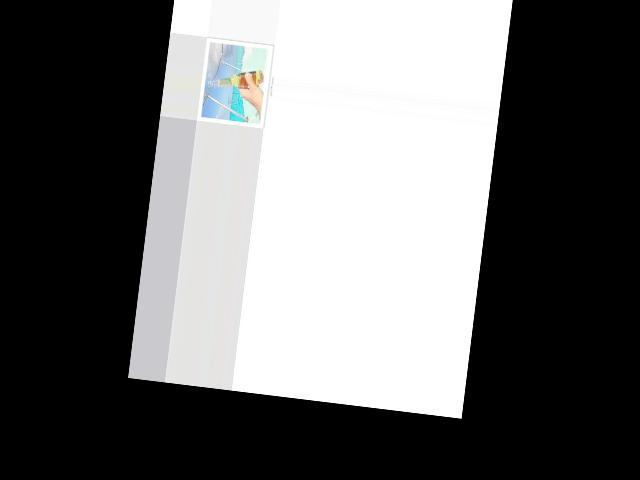beer: (207, 63, 264, 95)
